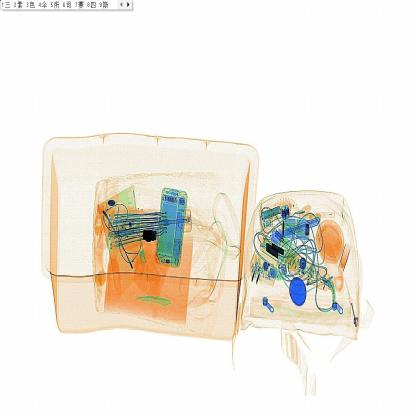scissors: (134, 225, 169, 250)
